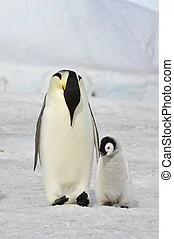emporer: (24, 56, 134, 219)
